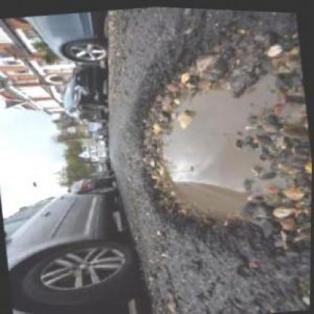Hueco: (119, 21, 313, 273)
